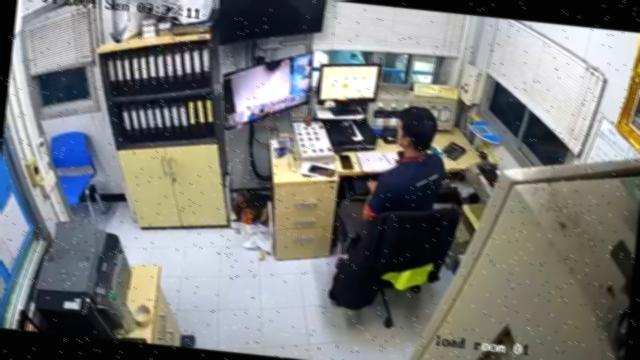Head: (396, 107, 438, 152)
People: (336, 106, 446, 243)
Phone: (336, 153, 355, 170), (308, 165, 335, 176)
